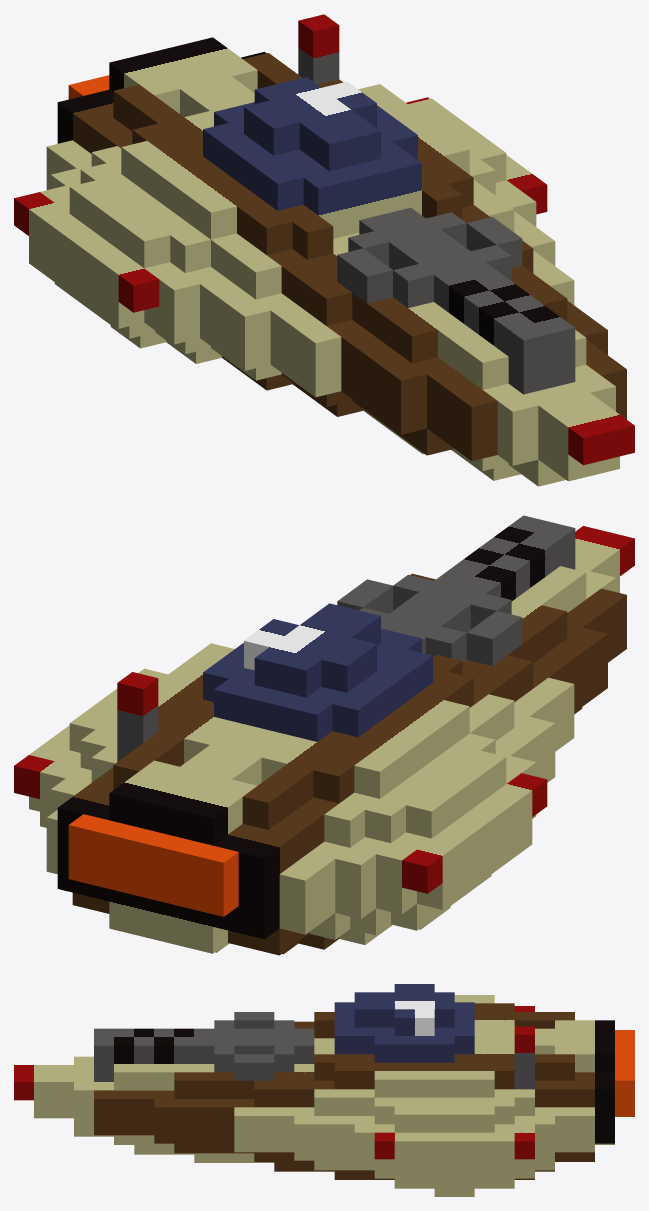
The model's file is spaceship.gltf.
3 renders of one model, top to bottom at view 1: azimuth 30°, elevation 25°; view 2: azimuth 150°, elevation 25°; view 3: azimuth 270°, elevation 25°, orthographic. The views are drawn at different scales.
Parts seen in each view (by area): view 1: Spaceship-Mesh; view 2: Spaceship-Mesh; view 3: Spaceship-Mesh.
Boxes of the visible parts, x1,y1,x2,y2 form: Spaceship-Mesh: (14, 14, 634, 486); Spaceship-Mesh: (14, 515, 634, 955); Spaceship-Mesh: (14, 984, 634, 1196).
Size of the model in its own units: 16 by 8 by 31.
Materials: 1 (1 with a texture image).
